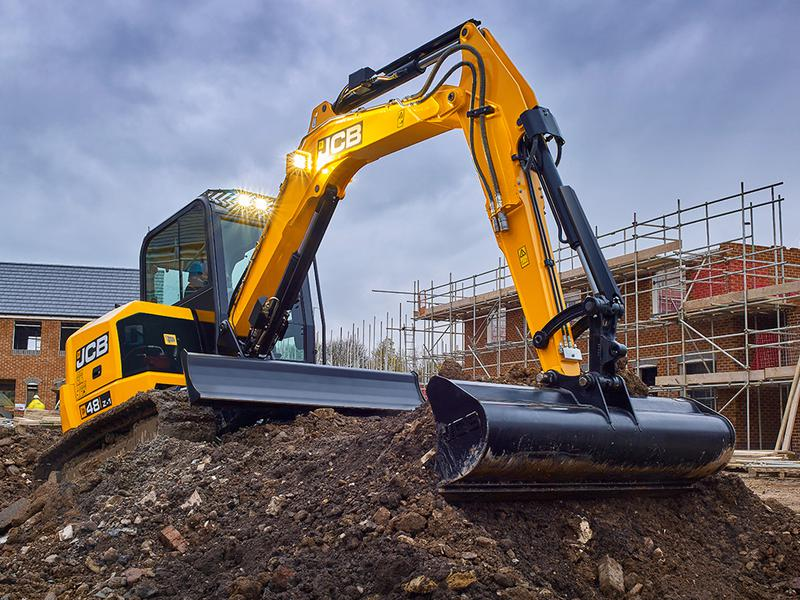shovel: (38, 18, 737, 501)
